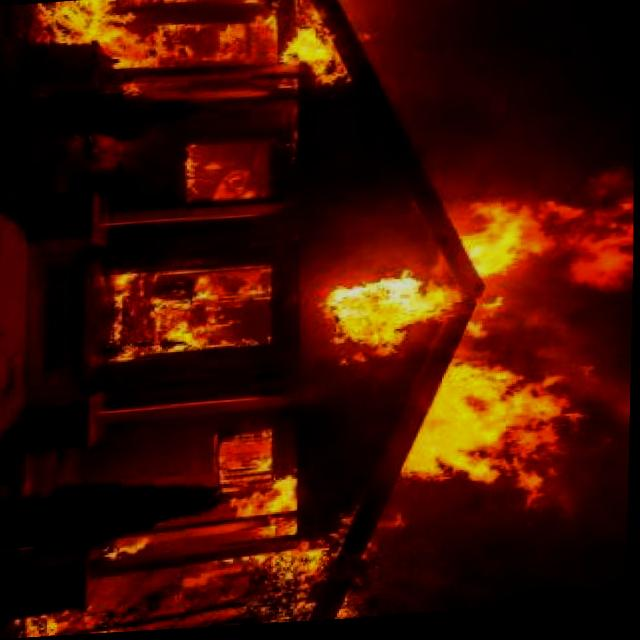helmet: (14, 0, 358, 114), (410, 348, 609, 516), (88, 254, 274, 376), (450, 191, 634, 298), (307, 271, 474, 369), (234, 474, 341, 600), (163, 129, 290, 219), (219, 428, 276, 493), (12, 607, 108, 639), (90, 536, 176, 569)
